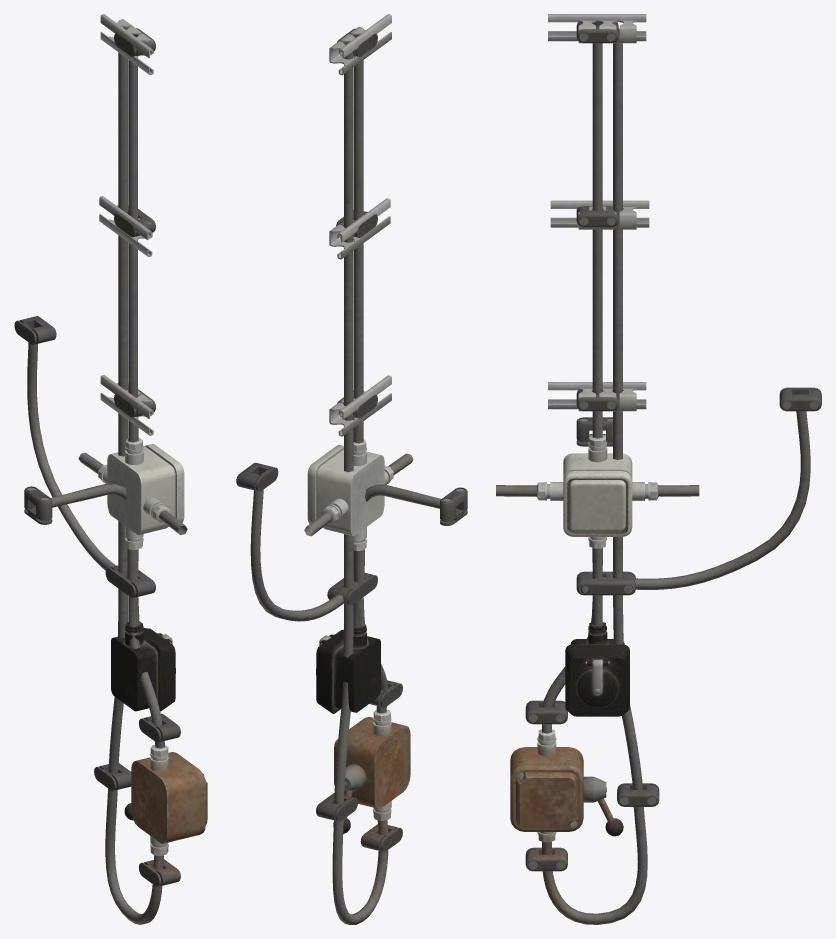
Rendered from kit_cables.glb.
3 renders of one model, left to right at view 1: azimuth 30°, elevation 25°; view 2: azimuth 150°, elevation 25°; view 3: azimuth 270°, elevation 25°, orthographic. The views are drawn at different scales.
Parts seen in each view (by area): view 1: cable_switch, cable_double_alt_long, cable_plug_covered, cable_lightswitch, cable_turn_long, cable_straight_long, cable_box_3way, cable_corner_away, cable_box_4way, cable_mount; view 2: cable_switch, cable_double_alt_long, cable_plug_covered, cable_lightswitch, cable_straight_long, cable_turn_long, cable_box_3way, cable_corner_away, cable_box_4way; view 3: cable_switch, cable_double_alt_long, cable_lightswitch, cable_plug_covered, cable_turn_long, cable_straight_long, cable_box_4way, cable_box_3way, cable_corner_away.
Part boxes in pixels (x1,y1,x2,y2): cable_switch: (94,565,207,924); cable_double_alt_long: (99,14,153,578); cable_plug_covered: (111,597,175,711); cable_lightswitch: (107,444,184,578); cable_turn_long: (14,316,127,577); cable_straight_long: (114,28,155,555); cable_box_3way: (79,417,167,574); cable_corner_away: (24,483,136,580); cable_box_4way: (78,452,187,535); cable_mount: (114,570,155,597); cable_switch: (316,576,410,924); cable_double_alt_long: (329,14,391,588); cable_plug_covered: (316,601,380,713); cable_lightswitch: (307,445,384,568); cable_straight_long: (336,28,377,580); cable_turn_long: (236,462,344,621); cable_box_3way: (313,418,383,580); cable_corner_away: (355,484,467,582); cable_box_4way: (304,453,413,536); cable_switch: (510,571,659,924); cable_double_alt_long: (548,14,649,578); cable_lightswitch: (563,453,632,541); cable_plug_covered: (565,595,629,716); cable_turn_long: (602,387,821,589); cable_straight_long: (576,20,618,411); cable_box_4way: (496,482,699,500); cable_box_3way: (588,411,699,578); cable_corner_away: (576,417,612,565).
Bounding box in the file's own units: 0.1618 × 0.9856 × 0.3208.
Materials: 2 (2 with a texture image).
